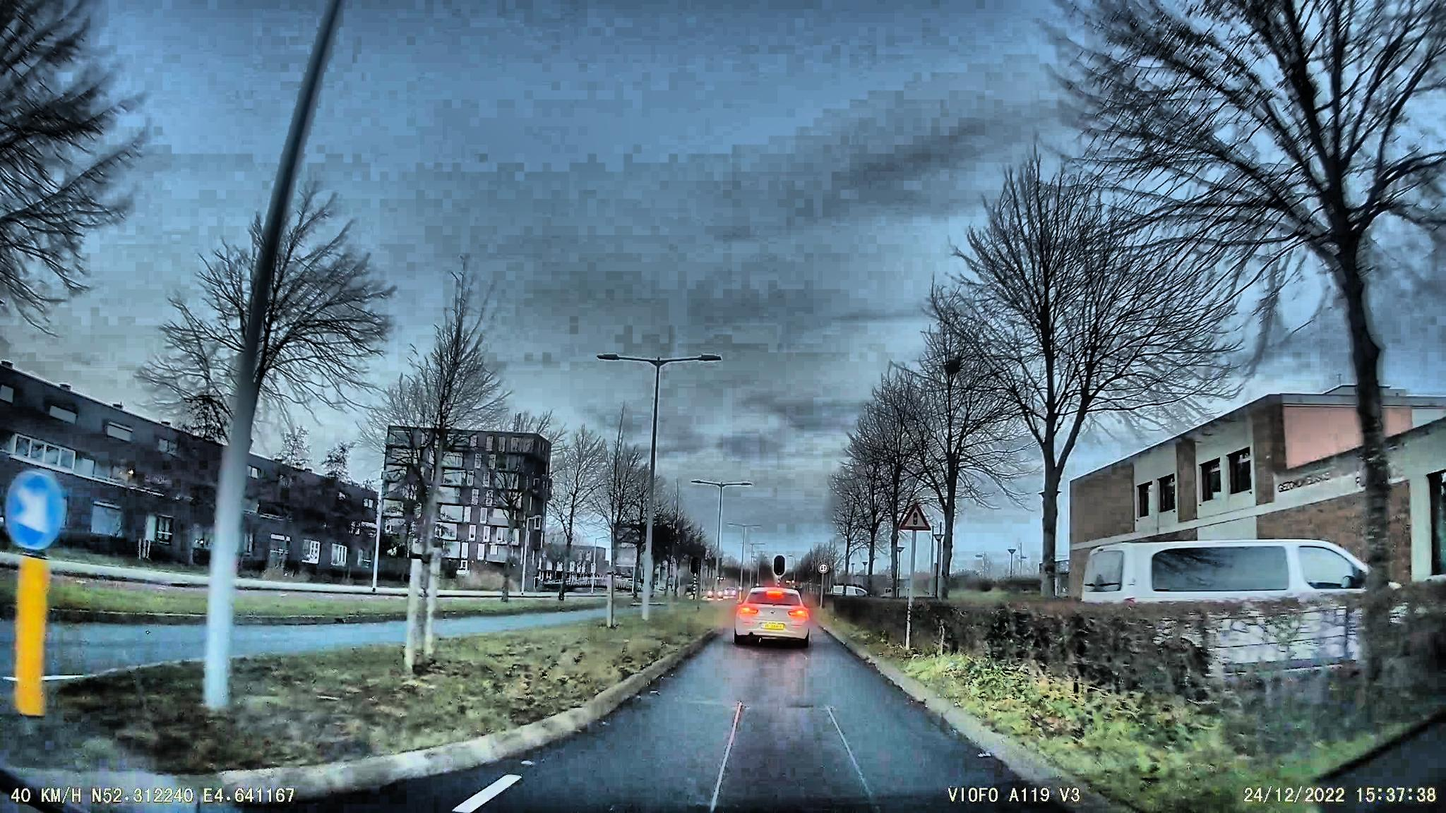Roads: (345, 632, 1126, 813)
